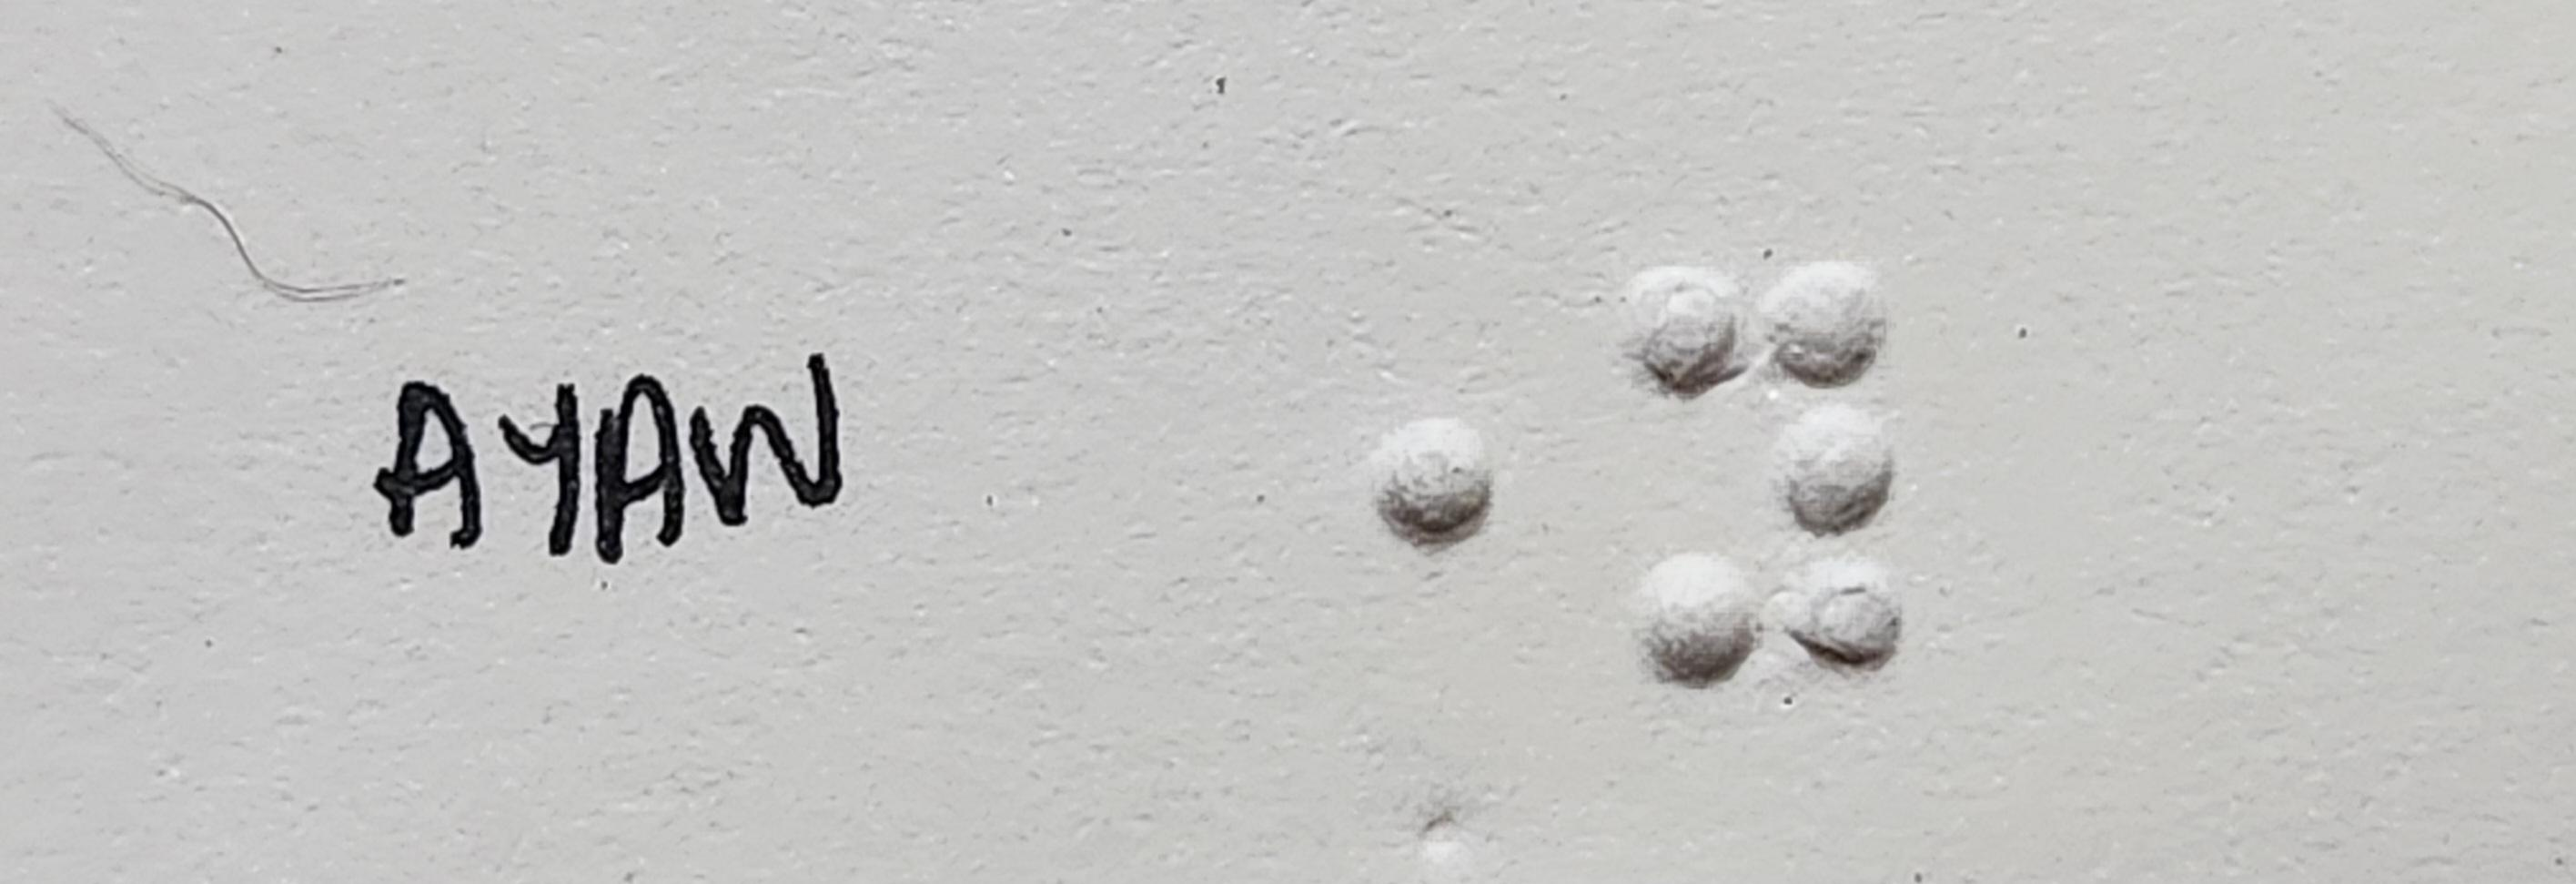dot_5: (1226, 258, 1502, 684)
two_cell_alphabet_ayaw: (1623, 258, 1899, 684)
